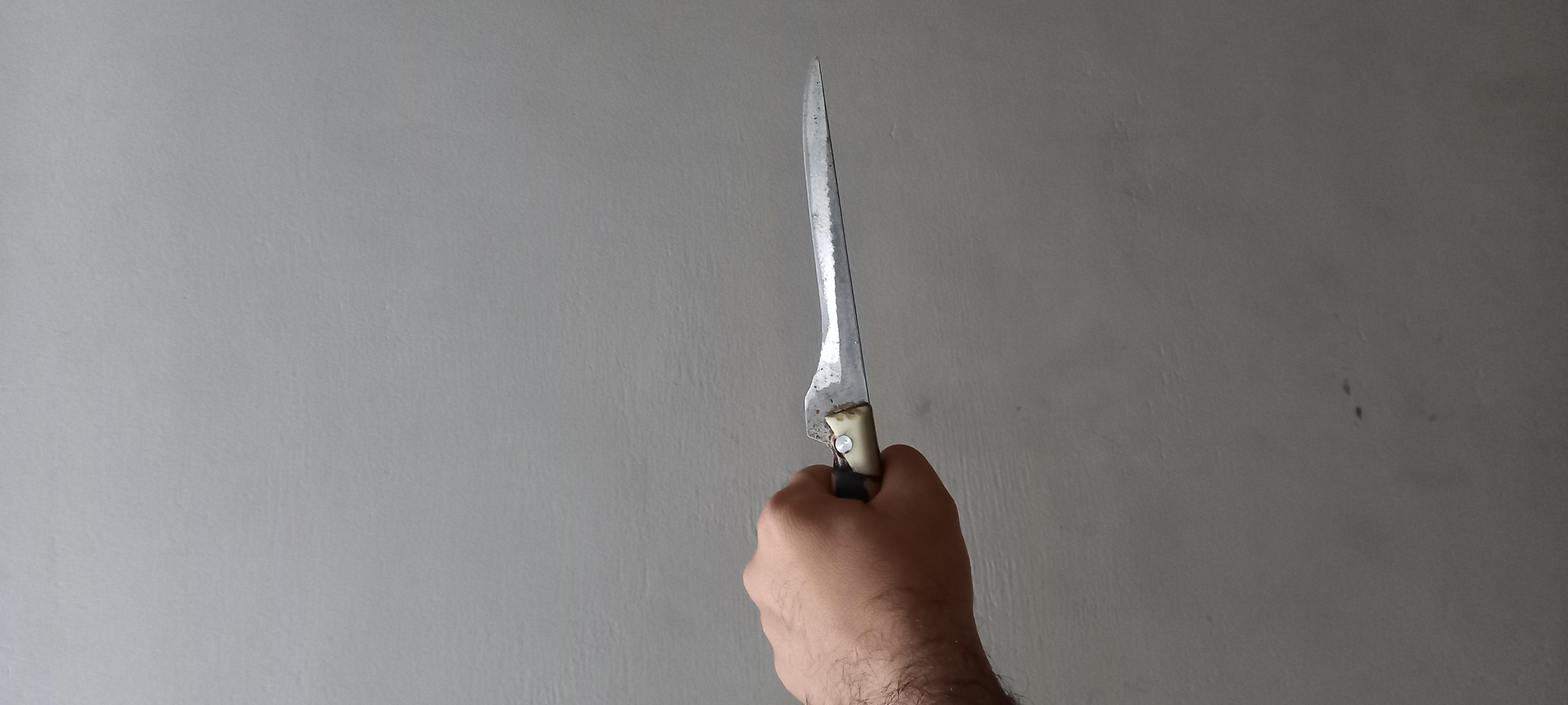knives: (328, 350, 1464, 406)
